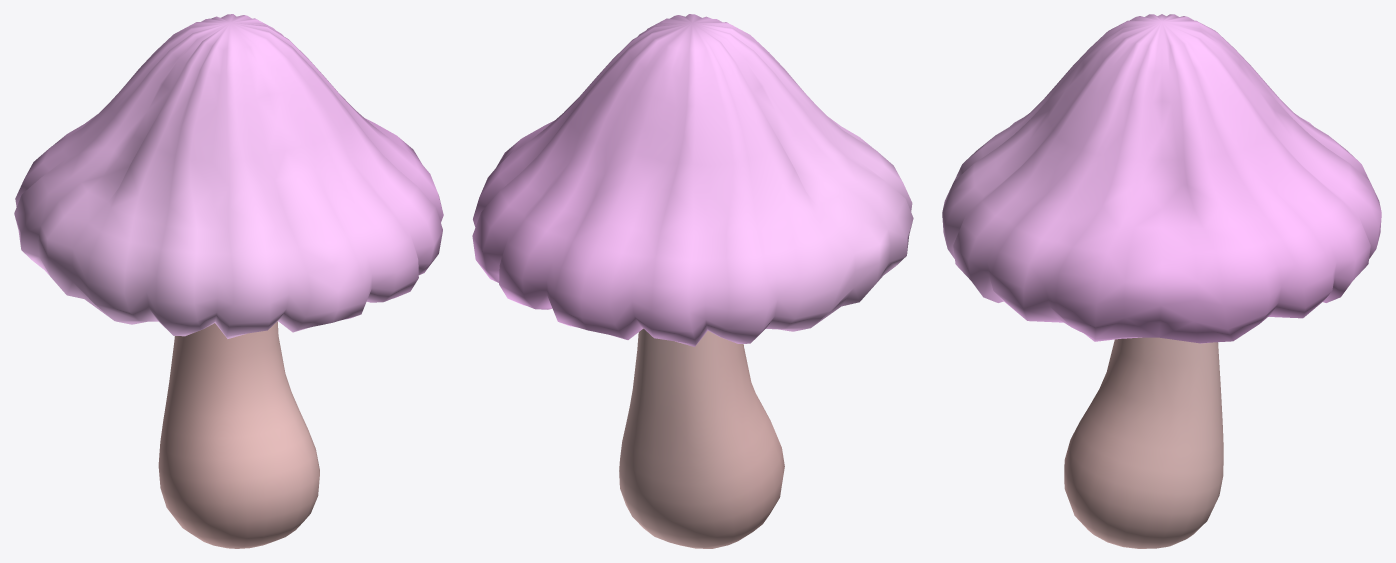
File: mushroom 19.fbx
The picture shows the model from 3 angles, left to right: view 1: azimuth 30°, elevation 25°; view 2: azimuth 150°, elevation 25°; view 3: azimuth 270°, elevation 25°; orthographic projection. The views are drawn at different scales.
Parts seen in each view (by area): view 1: Mushroom_0001_0019; view 2: Mushroom_0001_0019; view 3: Mushroom_0001_0019.
Part boxes in pixels (x1,y1,x2,y2): Mushroom_0001_0019: (14,14,443,548); Mushroom_0001_0019: (472,14,913,548); Mushroom_0001_0019: (942,14,1381,548).
Size of the model in its own units: 11.67 by 15.53 by 11.97.
Materials: 1 (1 with a texture image).
